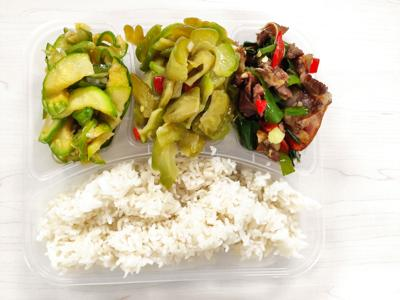rice: (38, 164, 309, 272)
